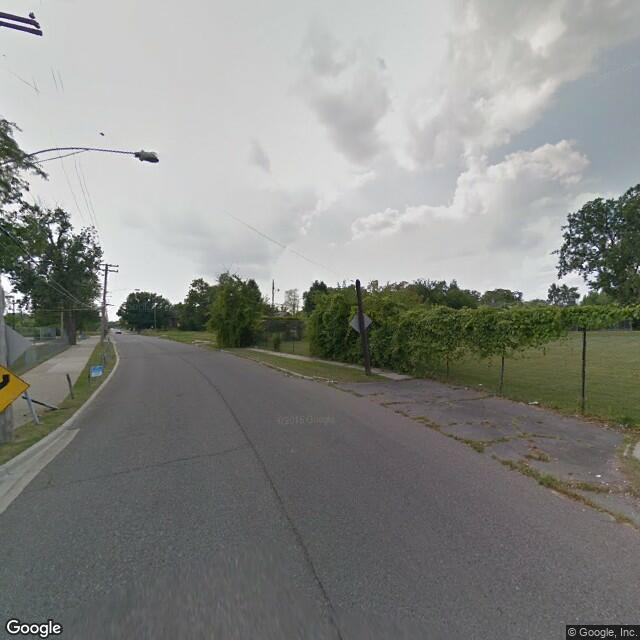litter: (527, 400, 540, 408), (594, 471, 603, 480), (477, 379, 482, 386)
